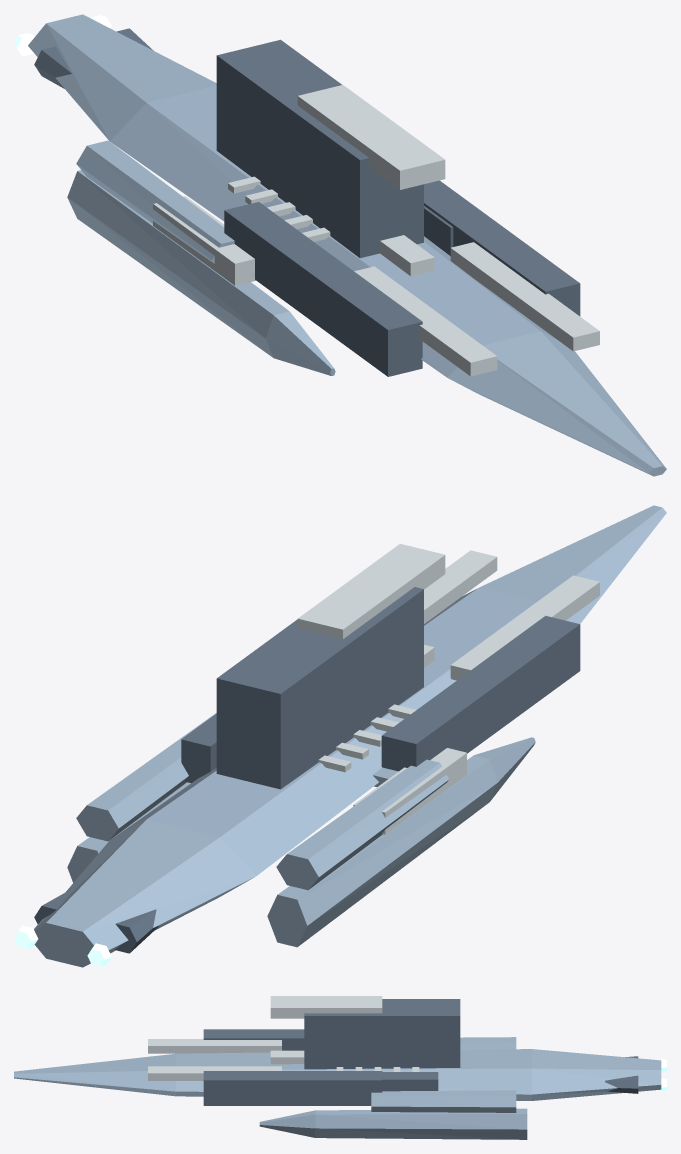
3 views of the same model, one above another, from view 1: azimuth 30°, elevation 25°; view 2: azimuth 150°, elevation 25°; view 3: azimuth 270°, elevation 25° (orthographic). The views are drawn at different scales.
Size of the model in its own units: 2.98 by 2.34 by 12.75.
